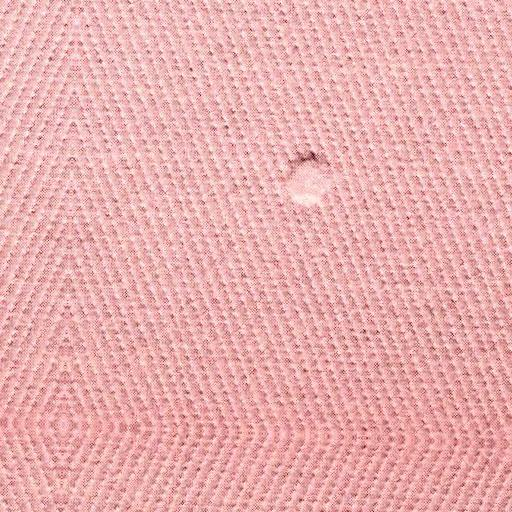knot: (274, 151, 343, 208)
